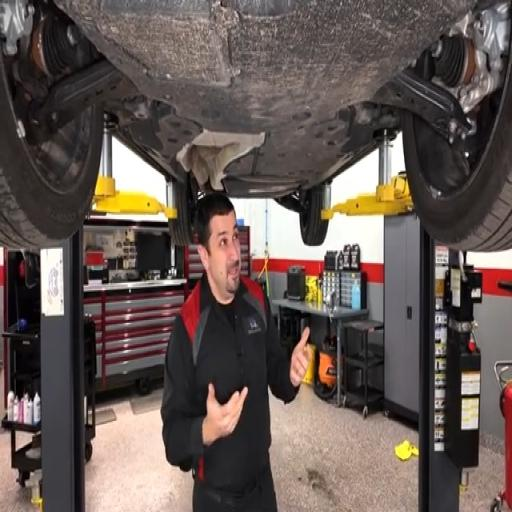tire: (403, 59, 511, 251), (0, 56, 103, 248), (168, 178, 194, 246), (299, 187, 328, 246)
wheel: (403, 59, 511, 251), (168, 177, 196, 246)
